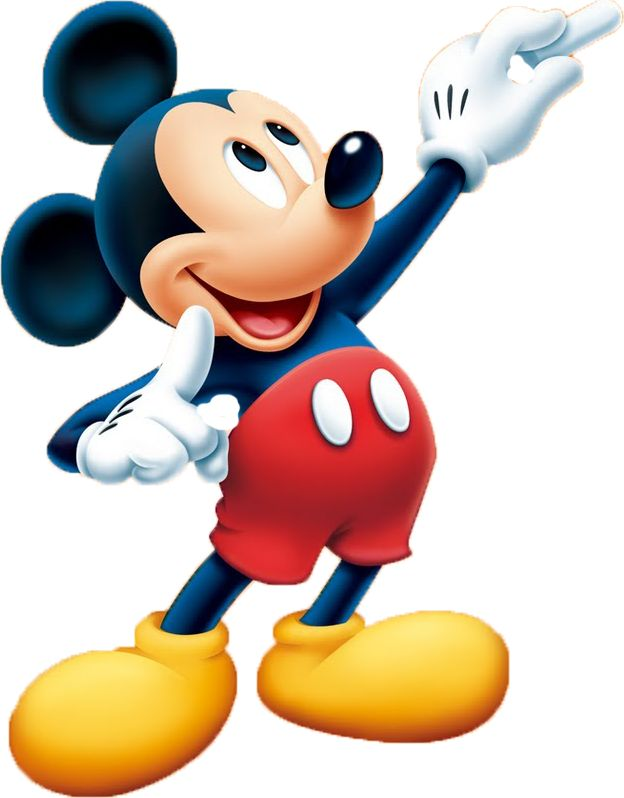Mickey: (1, 4, 386, 355)
